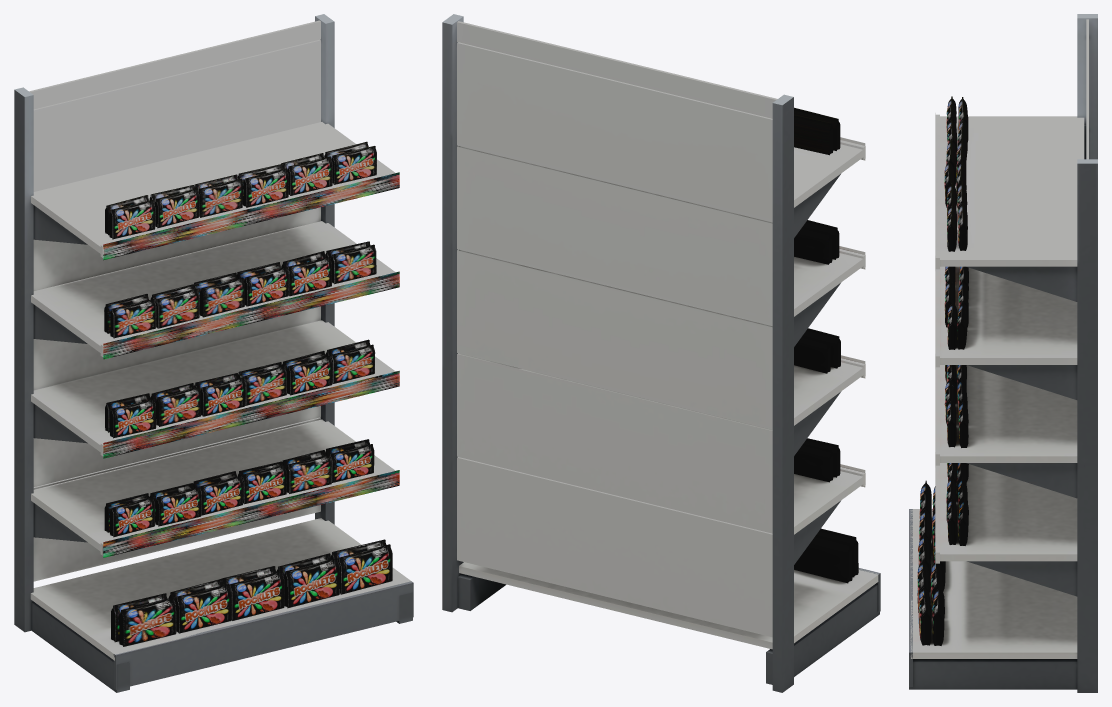
Rendered from regua.glb.
3 views of the same model, side by side, from view 1: azimuth 30°, elevation 25°; view 2: azimuth 150°, elevation 25°; view 3: azimuth 270°, elevation 25° (orthographic). The views are drawn at different scales.
Parts seen in each view (by area): view 1: ATLAS_estrutura, ATLAS_produtos, ATLAS_peca; view 2: ATLAS_estrutura, ATLAS_produtos; view 3: ATLAS_estrutura, ATLAS_produtos, ATLAS_peca.
Part boxes in pixels (x1,y1,x2,y2): ATLAS_estrutura: (14,14,413,692); ATLAS_produtos: (104,141,392,646); ATLAS_peca: (103,172,399,557); ATLAS_estrutura: (442,14,880,692); ATLAS_produtos: (794,107,858,583); ATLAS_estrutura: (909,14,1097,692); ATLAS_produtos: (917,96,968,645); ATLAS_peca: (935,113,935,565).
Bounding box in the file's own units: 1.03 × 1.7 × 0.55.
Materials: 3 (3 with a texture image).
